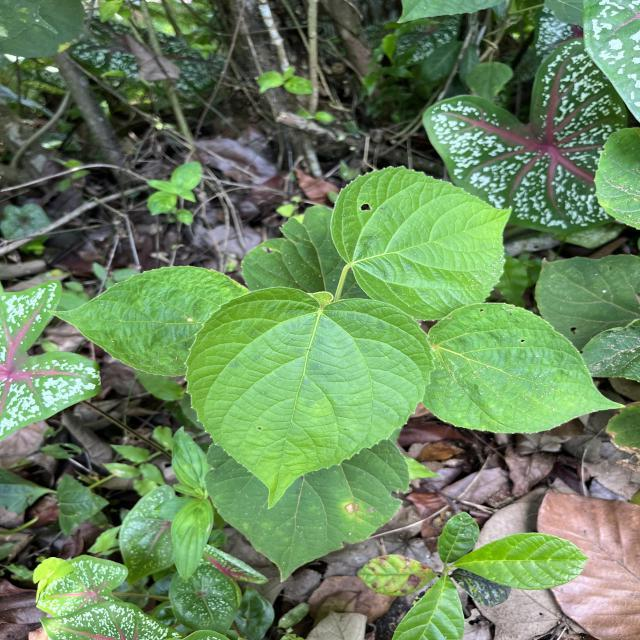Clerodendrum infortunatum: (182, 286, 436, 512), (203, 436, 412, 584), (330, 164, 514, 322), (421, 300, 627, 436), (46, 264, 250, 379)
